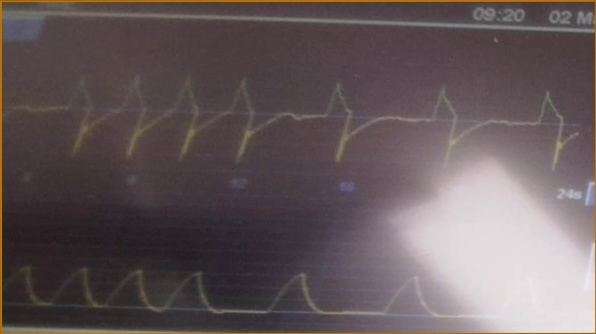Ineffective_effort Flow: (4, 67, 577, 172)
Ineffective_effort Volume: (4, 247, 499, 325)
